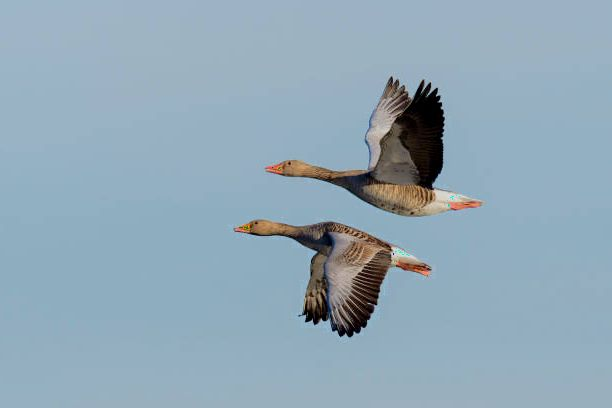Bird: (261, 70, 486, 215), (231, 213, 438, 344)
